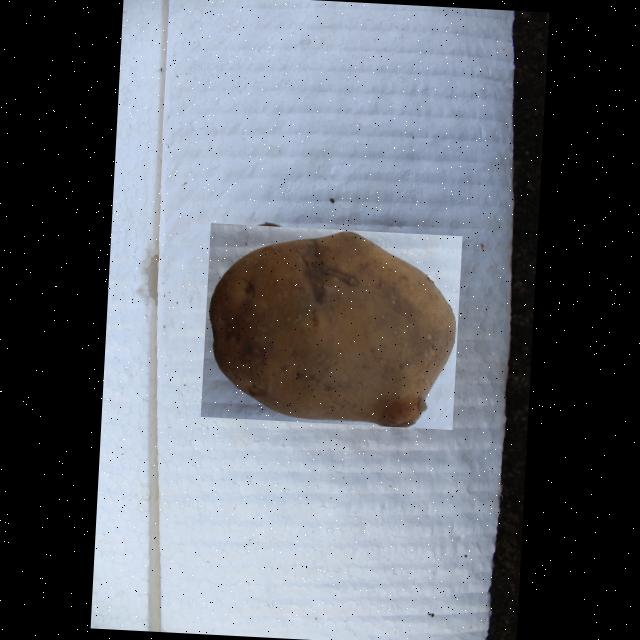Diseased-fungal potato: (200, 222, 462, 429)
